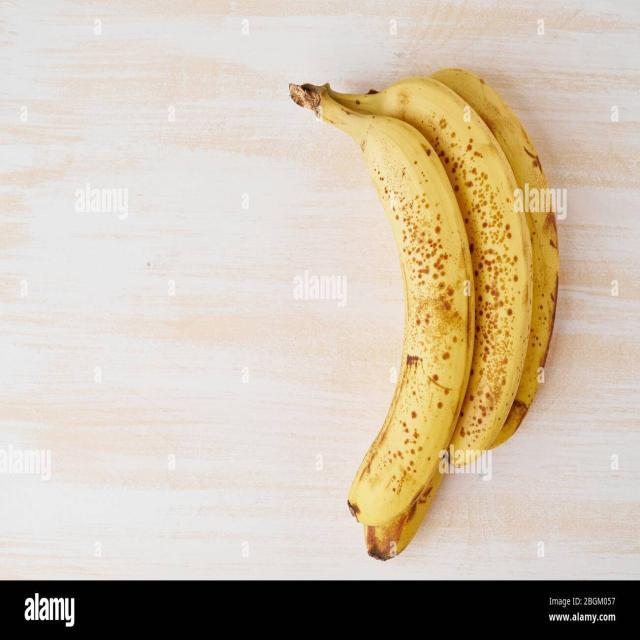Banana: (287, 60, 565, 567)
